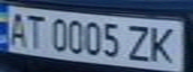0: (81, 18, 106, 56), (45, 15, 69, 53), (66, 17, 84, 55)
5: (100, 19, 127, 60)
A: (3, 9, 30, 47)
K: (142, 22, 184, 65)
T: (21, 11, 48, 50)
Z: (124, 22, 154, 63)
